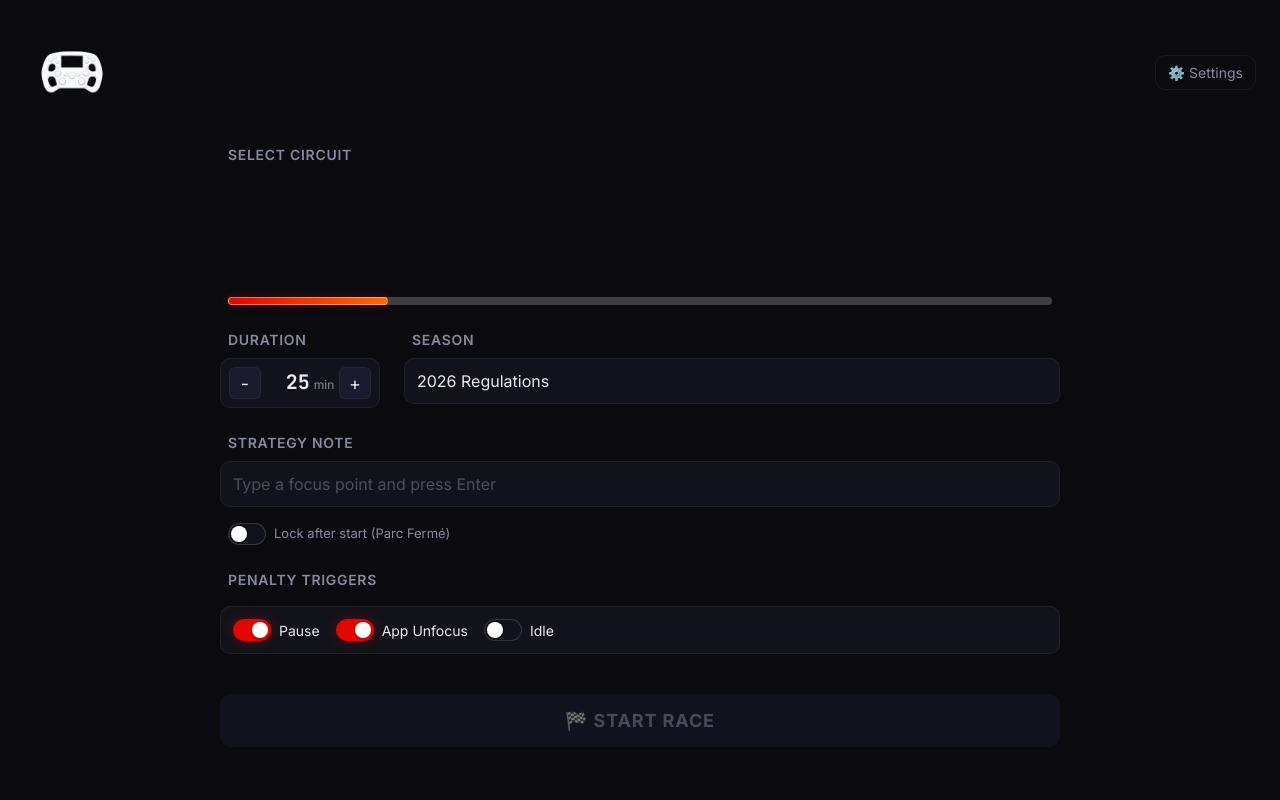
SetupScreen › opens the settings modal
The width and height of the screenshot is (1280, 800).
Click the button "⚙️ Settings" at [1205, 72], box [1155,54,1256,90]
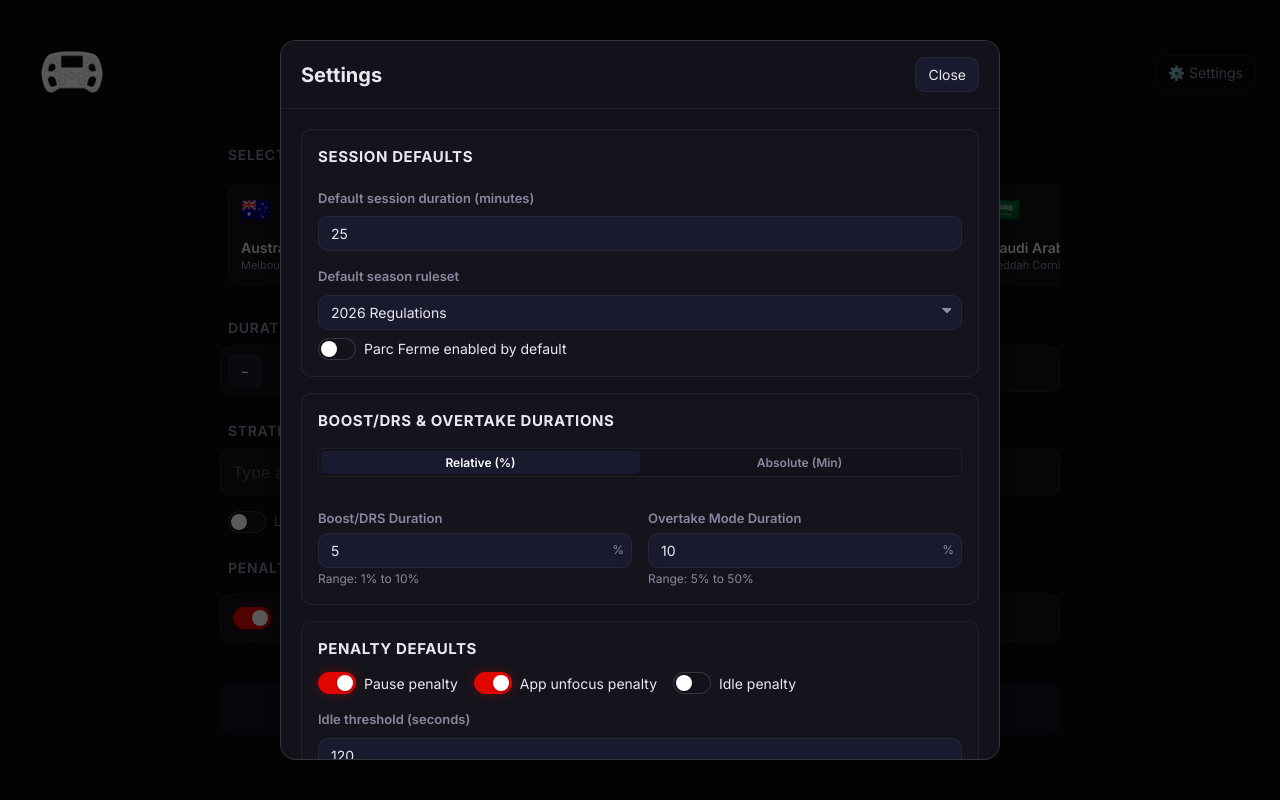
Check: the dialog "Settings" is shown
